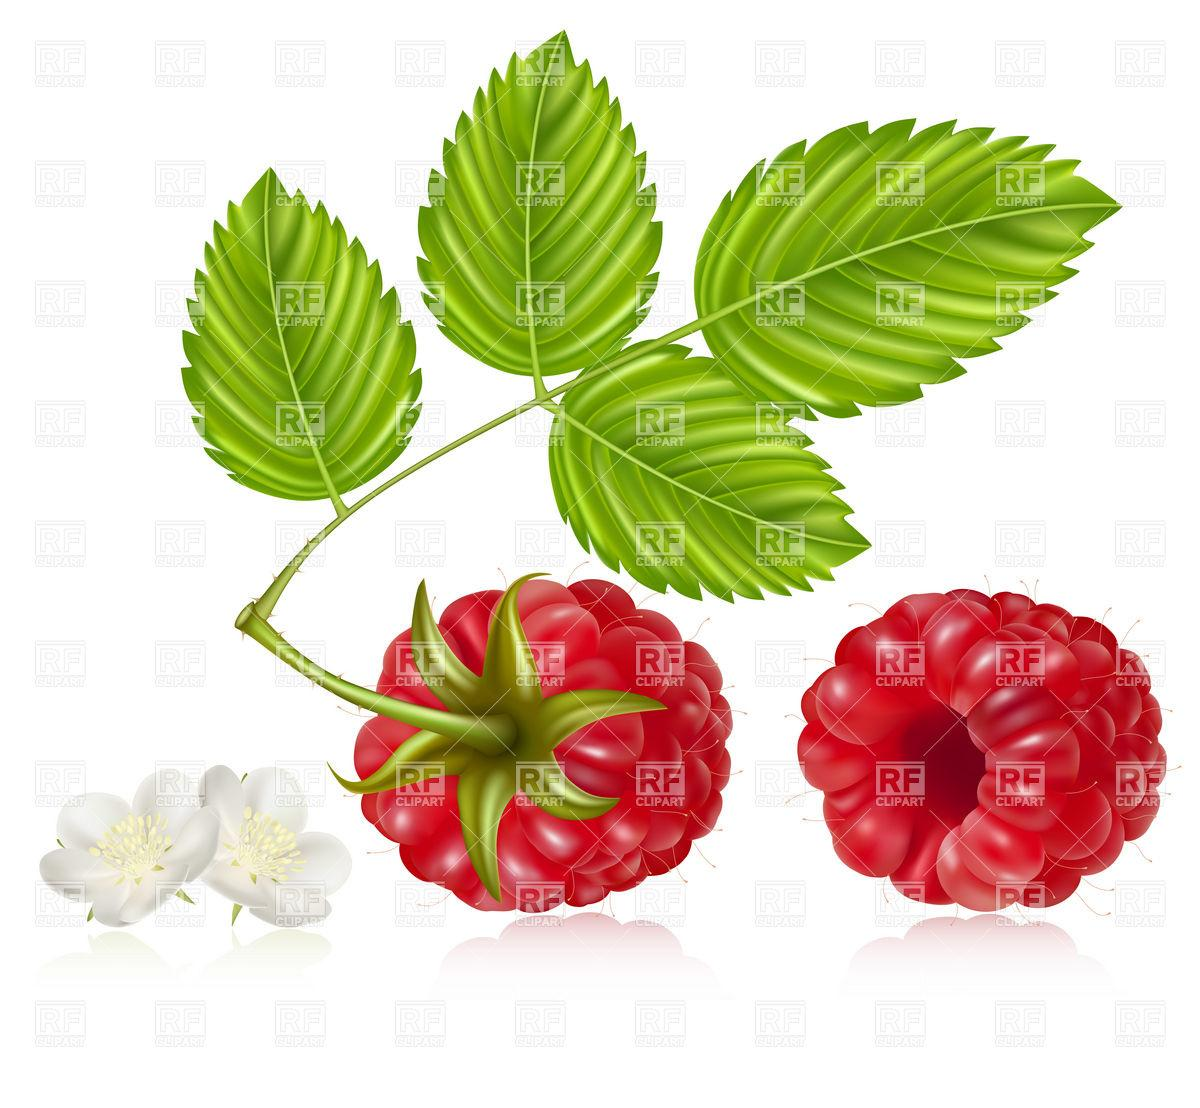Raspberry leaf: (698, 76, 1116, 422), (181, 143, 426, 539), (414, 18, 667, 397), (539, 340, 880, 620)
